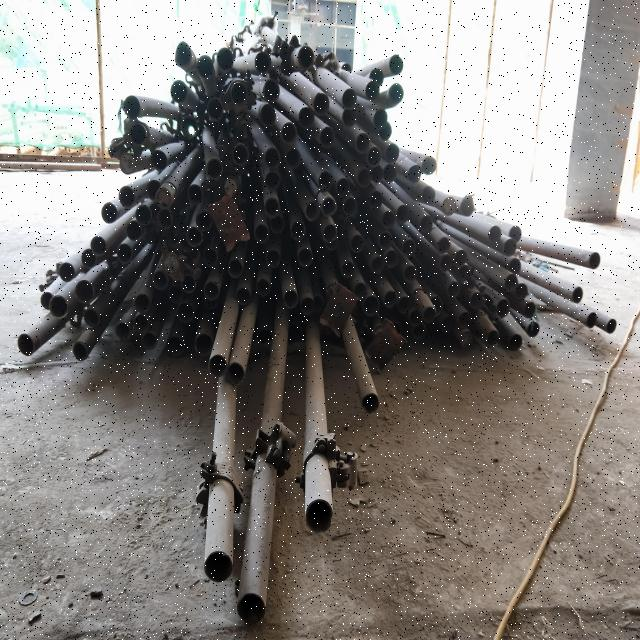pipe: (203, 544, 236, 585), (303, 496, 335, 534), (236, 591, 266, 625), (173, 37, 194, 70), (214, 44, 236, 72), (48, 293, 70, 321), (294, 42, 315, 70), (360, 390, 382, 416), (16, 332, 36, 360), (121, 94, 142, 120), (262, 77, 282, 104), (228, 357, 246, 387), (584, 245, 606, 269), (296, 104, 316, 130), (208, 354, 228, 380), (151, 269, 171, 295), (223, 174, 242, 200), (253, 52, 275, 74), (183, 225, 205, 247), (168, 334, 188, 358), (196, 330, 213, 358), (390, 51, 409, 76), (228, 82, 248, 105), (118, 184, 138, 207), (99, 202, 119, 225), (135, 202, 155, 225), (74, 281, 94, 304), (282, 287, 299, 314), (339, 106, 358, 130), (114, 318, 132, 343), (169, 80, 189, 102), (128, 124, 148, 146), (118, 152, 138, 174), (442, 278, 462, 300), (176, 301, 196, 323), (132, 312, 152, 334), (156, 186, 174, 210), (234, 280, 252, 304), (78, 246, 96, 270), (149, 149, 168, 171), (115, 242, 134, 264), (146, 178, 162, 204), (468, 286, 484, 312), (204, 276, 220, 302), (180, 273, 198, 296), (164, 251, 180, 276), (56, 262, 76, 282), (320, 126, 338, 148), (316, 168, 334, 190), (302, 200, 320, 222), (264, 195, 282, 217), (227, 256, 245, 278), (202, 247, 220, 269), (90, 234, 108, 256), (72, 340, 90, 362), (187, 183, 204, 206), (208, 96, 224, 120), (422, 153, 438, 177), (233, 144, 249, 168), (208, 156, 224, 180), (82, 310, 102, 329), (197, 54, 214, 76), (264, 146, 281, 168), (195, 209, 212, 231), (282, 122, 298, 145), (363, 80, 381, 100), (260, 104, 278, 124), (262, 171, 282, 189), (378, 230, 396, 250), (296, 248, 314, 268), (437, 253, 454, 274), (389, 82, 405, 104), (356, 132, 372, 154), (334, 175, 350, 197), (286, 148, 302, 170), (290, 220, 306, 242), (350, 233, 366, 255), (570, 284, 586, 306), (343, 86, 358, 109), (314, 92, 329, 115), (383, 162, 398, 185), (485, 327, 503, 346), (434, 236, 454, 253), (441, 195, 457, 216), (158, 208, 174, 229), (312, 292, 326, 316), (461, 196, 476, 218), (418, 212, 433, 234), (428, 294, 443, 316), (404, 262, 419, 284), (268, 216, 286, 234), (408, 162, 422, 185), (372, 108, 388, 128), (368, 190, 384, 210), (254, 223, 270, 243), (402, 237, 418, 257), (459, 332, 475, 352), (383, 290, 399, 310), (364, 298, 380, 318), (256, 278, 272, 298), (134, 292, 150, 312), (38, 291, 54, 311), (526, 320, 542, 340), (604, 315, 620, 335), (379, 120, 393, 142), (584, 308, 598, 330), (370, 254, 386, 273), (340, 259, 356, 278), (343, 196, 358, 216), (380, 210, 395, 230), (454, 246, 469, 266), (407, 308, 422, 328), (410, 324, 430, 339), (352, 280, 367, 300), (496, 298, 511, 318), (322, 224, 338, 242), (422, 306, 438, 324), (140, 332, 156, 350), (126, 222, 142, 240), (502, 238, 518, 256), (508, 332, 524, 350), (384, 250, 399, 269), (369, 146, 383, 166), (386, 143, 400, 163), (357, 168, 371, 188), (322, 196, 336, 216), (509, 223, 523, 243), (424, 183, 436, 206), (266, 250, 281, 268), (302, 297, 314, 319), (324, 236, 340, 252), (458, 309, 472, 327), (398, 295, 412, 313), (504, 274, 518, 292), (371, 165, 384, 184), (396, 204, 409, 223), (458, 266, 473, 282), (442, 316, 454, 336), (370, 67, 384, 84), (516, 283, 530, 300), (490, 224, 502, 243), (508, 258, 522, 274), (524, 303, 538, 319), (340, 56, 352, 74)
